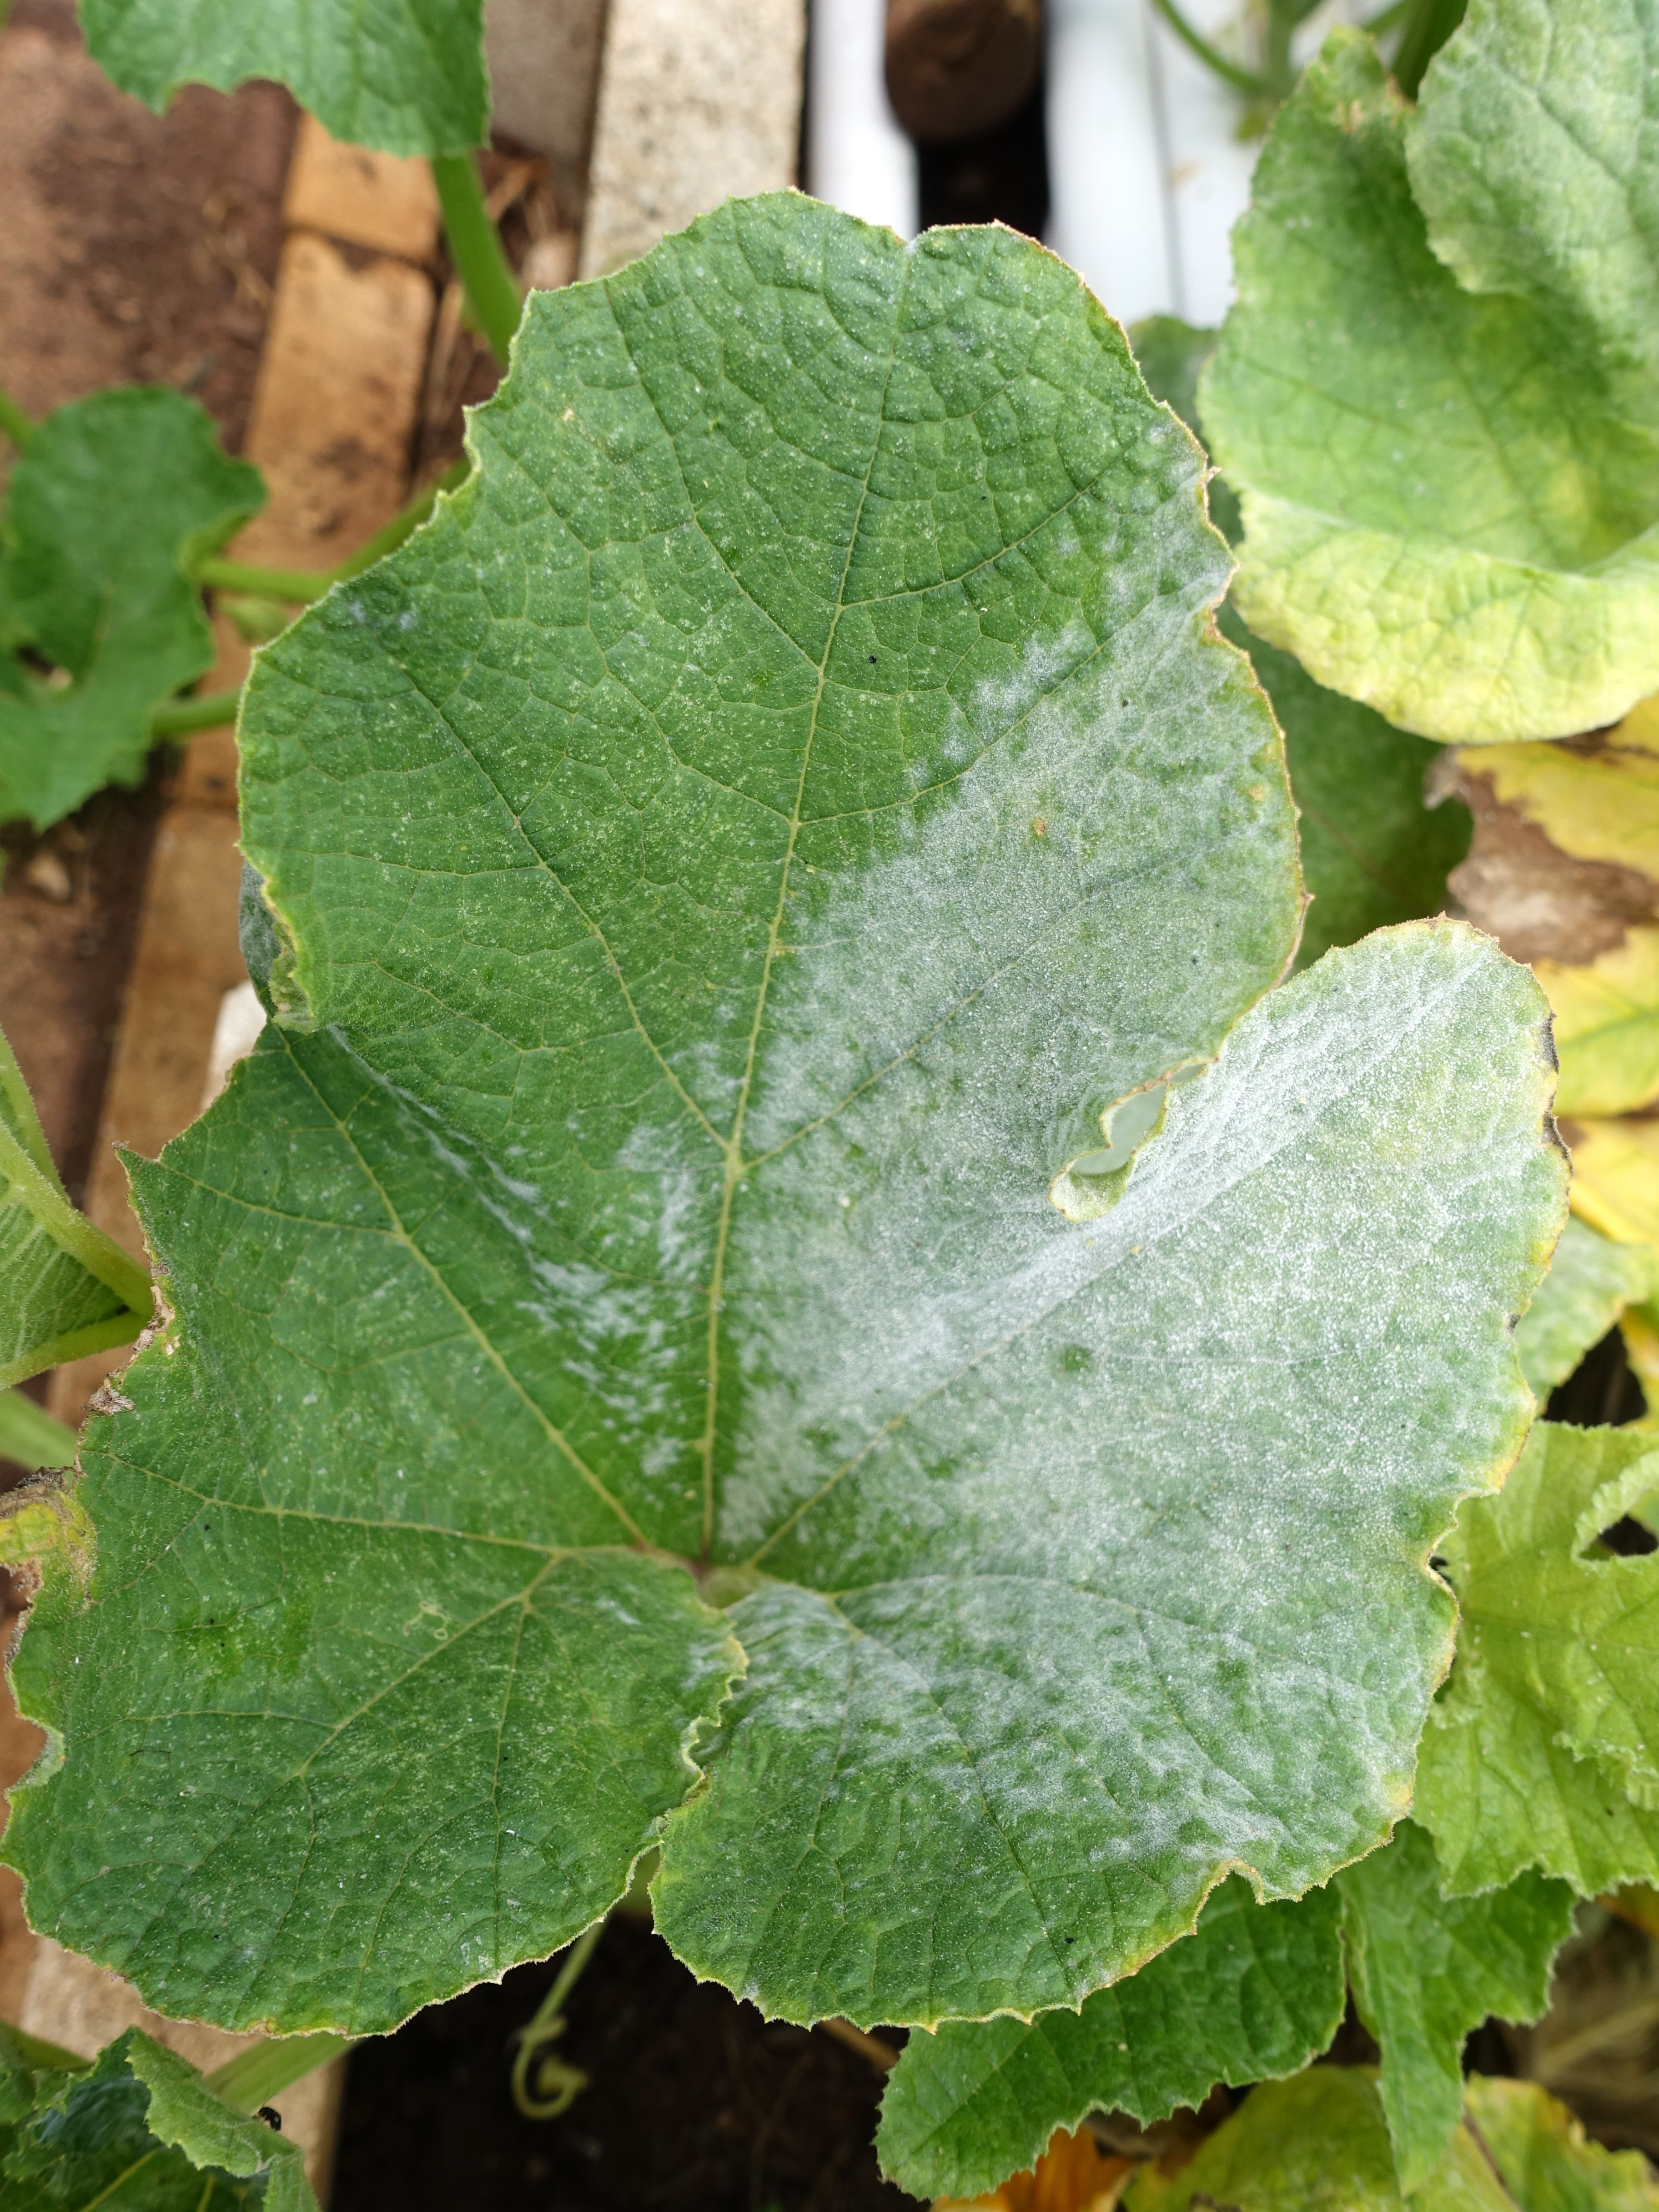Cucumber_PowderyMildew: (85, 277, 1534, 2015)
